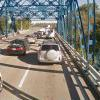Car: (2, 33, 28, 58)
